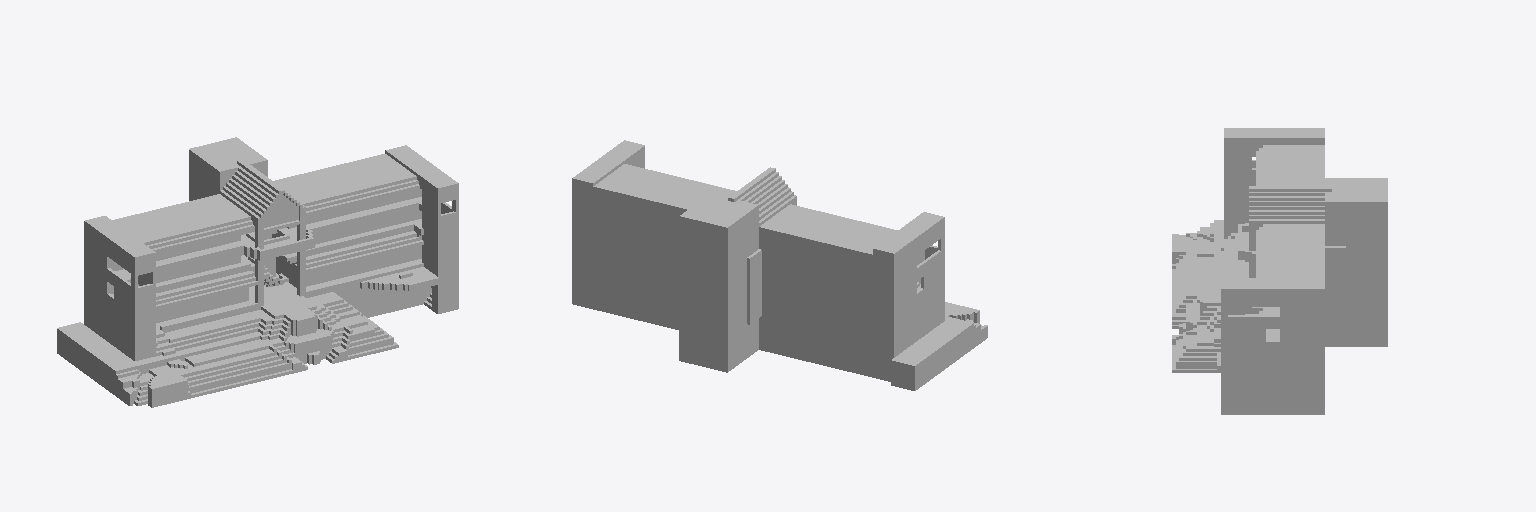
Rendered from Predio DE.obj.
The picture shows the model from 3 angles: view 1: azimuth 30°, elevation 25°; view 2: azimuth 150°, elevation 25°; view 3: azimuth 270°, elevation 25°; orthographic projection.
Parts seen in each view (by area): view 1: object 1; view 2: object 1; view 3: object 1.
Boxes of the visible parts, box(x1,y1,x2,y2) form: object 1: box(57, 137, 458, 407); object 1: box(572, 140, 987, 390); object 1: box(1172, 128, 1387, 414).
Size of the model in its own units: 11.5 by 4.7 by 6.2.